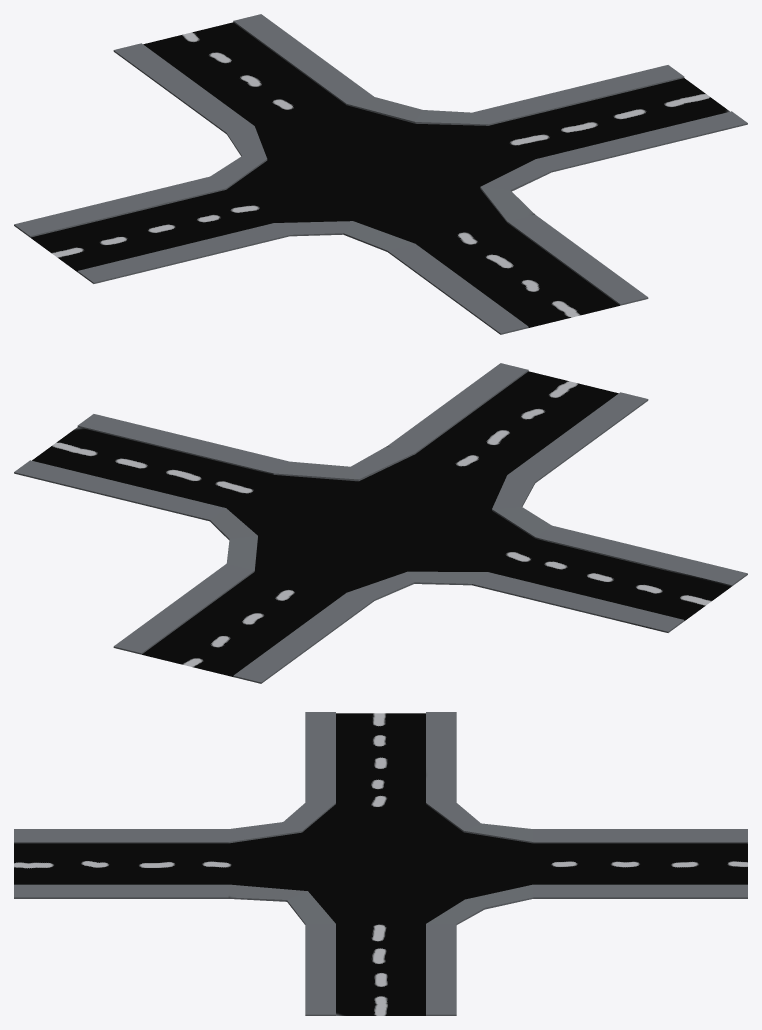
Rendered from Strt3.fbx.
3 views of the same model, one above another, from view 1: azimuth 30°, elevation 25°; view 2: azimuth 150°, elevation 25°; view 3: azimuth 270°, elevation 25° (orthographic). The views are drawn at different scales.
Parts seen in each view (by area): view 1: Fourway; view 2: Fourway; view 3: Fourway.
Part boxes in pixels (bbox=[...]): Fourway: bbox=[14, 14, 747, 334]; Fourway: bbox=[14, 363, 747, 683]; Fourway: bbox=[14, 712, 747, 1015].
Size of the model in its own units: 1206 by 3.39 by 1176.
